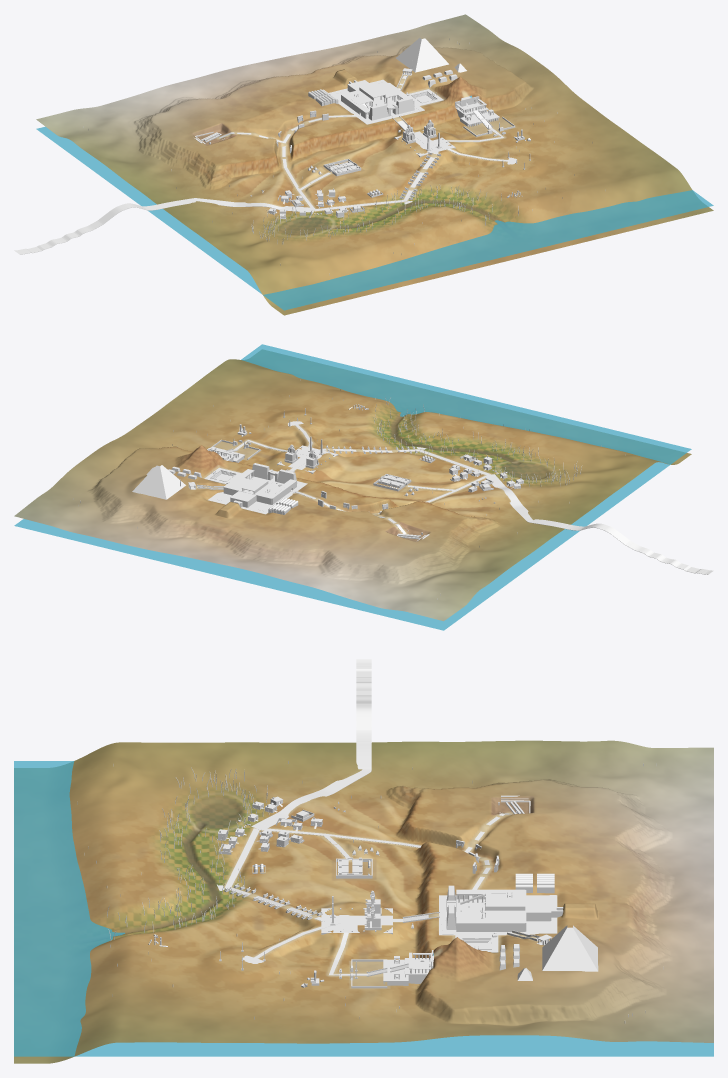
The model's file is world_egypt.core.glb.
3 renders of one model, top to bottom at view 1: azimuth 30°, elevation 25°; view 2: azimuth 150°, elevation 25°; view 3: azimuth 270°, elevation 25°, orthographic. The views are drawn at different scales.
Parts seen in each view (by area): view 1: Terrain, COL_Props, Water; view 2: Terrain, Water, COL_Props; view 3: Terrain, Water, COL_Props.
Part boxes in pixels (box(x1,y1,x2,y2)): Terrain: box(36, 14, 713, 315); COL_Props: box(14, 38, 605, 275); Water: box(36, 95, 713, 310); Terrain: box(14, 349, 691, 621); Water: box(14, 344, 691, 630); COL_Props: box(73, 379, 713, 599); Terrain: box(14, 740, 713, 1063); Water: box(14, 761, 713, 1056); COL_Props: box(77, 659, 663, 1023).
Size of the model in its own units: 960 by 82.3 by 720.
